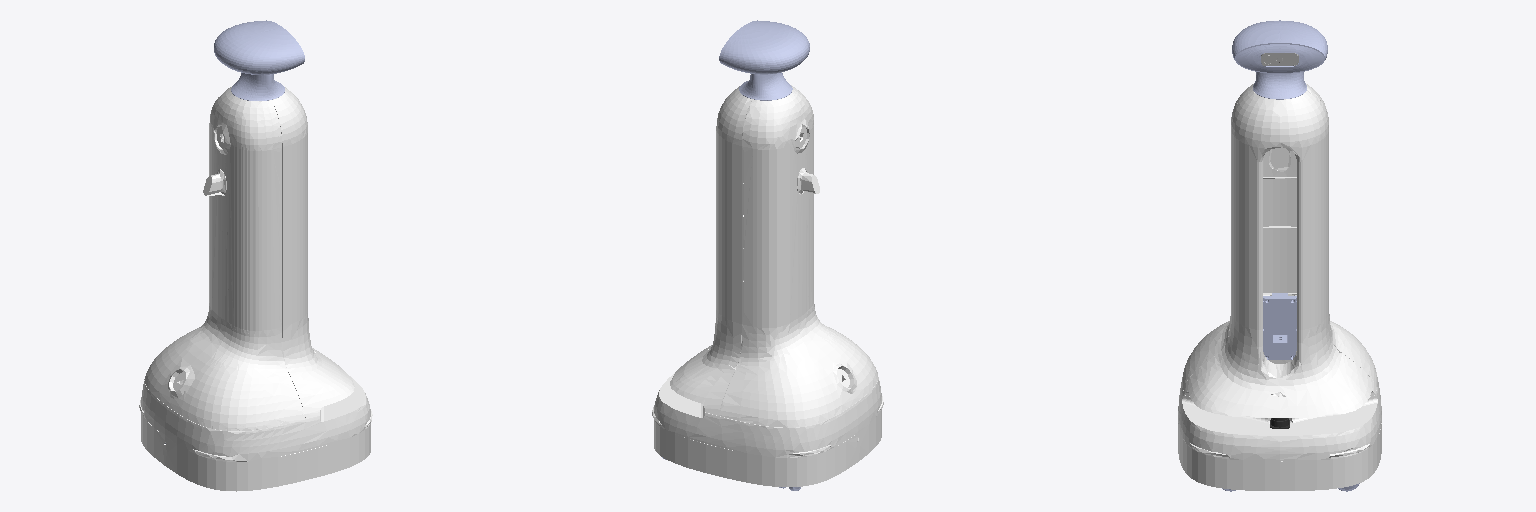
robot.urdf — MOMA_V4_URDF_V3:
<?xml version="1.0" encoding="utf-8"?>
<!-- This URDF was automatically created by SolidWorks to URDF Exporter! Originally created by [author] ([email redacted]) 
     Commit Version: 1.6.0-1-g15f4949  Build Version: 1.6.7594.29634
     For more information, please see http://wiki.ros.org/sw_urdf_exporter -->
<robot
  name="MOMA_V4_URDF_V3">
  <link
    name="base_link">
    <inertial>
      <origin
        xyz="-0.0311802154982621 1.17504338130459E-05 0.315211906825966"
        rpy="0 0 0" />
      <mass
        value="8.7968329124645" />
      <inertia
        ixx="0.186258716514256"
        ixy="-1.48518742834124E-05"
        ixz="-0.00154696059136798"
        iyy="0.203780508528874"
        iyz="1.05129920553985E-05"
        izz="0.079091000039605" />
    </inertial>
    <visual>
      <origin
        xyz="0 0 0"
        rpy="0 0 0" />
      <geometry>
        <mesh
          filename="package://MOMA_V4_URDF_V3/meshes/base_link.STL" />
      </geometry>
      <material
        name="">
        <color
          rgba="1 1 1 1" />
      </material>
    </visual>
    <collision>
      <origin
        xyz="0 0 0"
        rpy="0 0 0" />
      <geometry>
        <mesh
          filename="package://MOMA_V4_URDF_V3/meshes/base_link.STL" />
      </geometry>
    </collision>
  </link>
  <link
    name="Lidar">
    <inertial>
      <origin
        xyz="6.20383105998101E-10 0.0216642806157543 -9.5633137657869E-05"
        rpy="0 0 0" />
      <mass
        value="0.111414847916921" />
      <inertia
        ixx="4.42568757050089E-05"
        ixy="5.54707912683361E-13"
        ixz="-1.43915040446869E-12"
        iyy="4.24275016408878E-05"
        iyz="-1.99911186975257E-07"
        izz="4.38954994136943E-05" />
    </inertial>
    <visual>
      <origin
        xyz="0 0 0"
        rpy="0 0 0" />
      <geometry>
        <mesh
          filename="package://MOMA_V4_URDF_V3/meshes/Lidar.STL" />
      </geometry>
      <material
        name="">
        <color
          rgba="0.258823529411765 0.258823529411765 0.258823529411765 1" />
      </material>
    </visual>
    <collision>
      <origin
        xyz="0 0 0"
        rpy="0 0 0" />
      <geometry>
        <mesh
          filename="package://MOMA_V4_URDF_V3/meshes/Lidar.STL" />
      </geometry>
    </collision>
  </link>
  <joint
    name="JT_Lidar"
    type="fixed">
    <origin
      xyz="0.1985 0 0.095"
      rpy="1.5708 0 1.5708" />
    <parent
      link="base_link" />
    <child
      link="Lidar" />
    <axis
      xyz="0 0 0" />
  </joint>
  <link
    name="UniWheelPivot_RF">
    <inertial>
      <origin
        xyz="-0.0289122121608881 7.96029908656237E-14 -0.0182260960322876"
        rpy="0 0 0" />
      <mass
        value="0.0847351495375796" />
      <inertia
        ixx="3.34756139191196E-05"
        ixy="7.50114488966578E-17"
        ixz="-1.16340041790674E-05"
        iyy="6.07135705376021E-05"
        iyz="3.20838303655994E-17"
        izz="3.49474283390519E-05" />
    </inertial>
    <visual>
      <origin
        xyz="0 0 0"
        rpy="0 0 0" />
      <geometry>
        <mesh
          filename="package://MOMA_V4_URDF_V3/meshes/UniWheelPivot_RF.STL" />
      </geometry>
      <material
        name="">
        <color
          rgba="1 1 1 1" />
      </material>
    </visual>
    <collision>
      <origin
        xyz="0 0 0"
        rpy="0 0 0" />
      <geometry>
        <mesh
          filename="package://MOMA_V4_URDF_V3/meshes/UniWheelPivot_RF.STL" />
      </geometry>
    </collision>
  </link>
  <joint
    name="JT_UniWheelPivot_RF"
    type="continuous">
    <origin
      xyz="0.185 -0.1585 -0.0043169"
      rpy="1.5708 -1.5708 0" />
    <parent
      link="base_link" />
    <child
      link="UniWheelPivot_RF" />
    <axis
      xyz="1 0 0" />
  </joint>
  <link
    name="UniWheel_RF">
    <inertial>
      <origin
        xyz="2.82717186675385E-08 2.14311952628776E-08 3.03619636168873E-08"
        rpy="0 0 0" />
      <mass
        value="0.131455385692783" />
      <inertia
        ixx="4.67616618745289E-05"
        ixy="-2.20955469793984E-11"
        ixz="-5.77989335033432E-10"
        iyy="8.85134138944847E-05"
        iyz="-2.24056751711574E-11"
        izz="4.67628266240816E-05" />
    </inertial>
    <visual>
      <origin
        xyz="0 0 0"
        rpy="0 0 0" />
      <geometry>
        <mesh
          filename="package://MOMA_V4_URDF_V3/meshes/UniWheel_RF.STL" />
      </geometry>
      <material
        name="">
        <color
          rgba="0.792156862745098 0.819607843137255 0.933333333333333 1" />
      </material>
    </visual>
    <collision>
      <origin
        xyz="0 0 0"
        rpy="0 0 0" />
      <geometry>
        <mesh
          filename="package://MOMA_V4_URDF_V3/meshes/UniWheel_RF.STL" />
      </geometry>
    </collision>
  </link>
  <joint
    name="JT_UniWheel_RF"
    type="continuous">
    <origin
      xyz="-0.042183 0 -0.024"
      rpy="0 -1.5708 0" />
    <parent
      link="UniWheelPivot_RF" />
    <child
      link="UniWheel_RF" />
    <axis
      xyz="0 -1 0" />
  </joint>
  <link
    name="UniWheelPivot_LF">
    <inertial>
      <origin
        xyz="-0.028912212160888 7.96029908656237E-14 -0.0182260960322876"
        rpy="0 0 0" />
      <mass
        value="0.0847351495375796" />
      <inertia
        ixx="3.34756139191196E-05"
        ixy="7.50107342044398E-17"
        ixz="-1.16340041790674E-05"
        iyy="6.07135705376022E-05"
        iyz="3.20810669265241E-17"
        izz="3.49474283390519E-05" />
    </inertial>
    <visual>
      <origin
        xyz="0 0 0"
        rpy="0 0 0" />
      <geometry>
        <mesh
          filename="package://MOMA_V4_URDF_V3/meshes/UniWheelPivot_LF.STL" />
      </geometry>
      <material
        name="">
        <color
          rgba="1 1 1 1" />
      </material>
    </visual>
    <collision>
      <origin
        xyz="0 0 0"
        rpy="0 0 0" />
      <geometry>
        <mesh
          filename="package://MOMA_V4_URDF_V3/meshes/UniWheelPivot_LF.STL" />
      </geometry>
    </collision>
  </link>
  <joint
    name="JT_UniWheelPivot_LF"
    type="continuous">
    <origin
      xyz="0.185 0.1585 -0.00431688785512865"
      rpy="1.5707963267949 -1.5707963267949 0" />
    <parent
      link="base_link" />
    <child
      link="UniWheelPivot_LF" />
    <axis
      xyz="1 0 0" />
  </joint>
  <link
    name="UniWheel_LF">
    <inertial>
      <origin
        xyz="-1.63190614910214E-08 2.14311952073665E-08 3.81421963735473E-08"
        rpy="0 0 0" />
      <mass
        value="0.131455385692783" />
      <inertia
        ixx="4.67630636523249E-05"
        ixy="1.15437256666207E-11"
        ixz="-4.25528389794276E-11"
        iyy="8.85134138944848E-05"
        iyz="-2.92740747055511E-11"
        izz="4.67614248462869E-05" />
    </inertial>
    <visual>
      <origin
        xyz="0 0 0"
        rpy="0 0 0" />
      <geometry>
        <mesh
          filename="package://MOMA_V4_URDF_V3/meshes/UniWheel_LF.STL" />
      </geometry>
      <material
        name="">
        <color
          rgba="0.792156862745098 0.819607843137255 0.933333333333333 1" />
      </material>
    </visual>
    <collision>
      <origin
        xyz="0 0 0"
        rpy="0 0 0" />
      <geometry>
        <mesh
          filename="package://MOMA_V4_URDF_V3/meshes/UniWheel_LF.STL" />
      </geometry>
    </collision>
  </link>
  <joint
    name="JT_UniWheel_LF"
    type="continuous">
    <origin
      xyz="-0.042183 0 -0.024"
      rpy="0 -1.5708 0" />
    <parent
      link="UniWheelPivot_LF" />
    <child
      link="UniWheel_LF" />
    <axis
      xyz="0 -1 0" />
  </joint>
  <link
    name="UniWheelPivot_RB">
    <inertial>
      <origin
        xyz="-0.0289122121598695 7.96029908656237E-14 -0.0182260960322876"
        rpy="0 0 0" />
      <mass
        value="0.0847351495375796" />
      <inertia
        ixx="3.34756139191196E-05"
        ixy="7.50002400117997E-17"
        ixz="-1.16340041790674E-05"
        iyy="6.07135705376021E-05"
        iyz="3.2068961265564E-17"
        izz="3.49474283390519E-05" />
    </inertial>
    <visual>
      <origin
        xyz="0 0 0"
        rpy="0 0 0" />
      <geometry>
        <mesh
          filename="package://MOMA_V4_URDF_V3/meshes/UniWheelPivot_RB.STL" />
      </geometry>
      <material
        name="">
        <color
          rgba="1 1 1 1" />
      </material>
    </visual>
    <collision>
      <origin
        xyz="0 0 0"
        rpy="0 0 0" />
      <geometry>
        <mesh
          filename="package://MOMA_V4_URDF_V3/meshes/UniWheelPivot_RB.STL" />
      </geometry>
    </collision>
  </link>
  <joint
    name="JT_UniWheelPivot_RB"
    type="continuous">
    <origin
      xyz="-0.185 -0.1585 -0.00431688785512863"
      rpy="1.5707963267949 -1.5707963267949 0" />
    <parent
      link="base_link" />
    <child
      link="UniWheelPivot_RB" />
    <axis
      xyz="1 0 0" />
  </joint>
  <link
    name="UniWheel_RB">
    <inertial>
      <origin
        xyz="-1.63190614563269E-08 2.14311951796109E-08 3.81421963388529E-08"
        rpy="0 0 0" />
      <mass
        value="0.131455385692783" />
      <inertia
        ixx="4.67630636523245E-05"
        ixy="1.15437256434612E-11"
        ixz="-4.25528389606465E-11"
        iyy="8.85134138944848E-05"
        iyz="-2.92740747818311E-11"
        izz="4.67614248462865E-05" />
    </inertial>
    <visual>
      <origin
        xyz="0 0 0"
        rpy="0 0 0" />
      <geometry>
        <mesh
          filename="package://MOMA_V4_URDF_V3/meshes/UniWheel_RB.STL" />
      </geometry>
      <material
        name="">
        <color
          rgba="0.792156862745098 0.819607843137255 0.933333333333333 1" />
      </material>
    </visual>
    <collision>
      <origin
        xyz="0 0 0"
        rpy="0 0 0" />
      <geometry>
        <mesh
          filename="package://MOMA_V4_URDF_V3/meshes/UniWheel_RB.STL" />
      </geometry>
    </collision>
  </link>
  <joint
    name="JT_UniWheel_RB"
    type="continuous">
    <origin
      xyz="-0.042183 0 -0.024"
      rpy="0 -1.5708 0" />
    <parent
      link="UniWheelPivot_RB" />
    <child
      link="UniWheel_RB" />
    <axis
      xyz="0 -1 0" />
  </joint>
  <link
    name="UniWheelPivot_LB">
    <inertial>
      <origin
        xyz="-0.0289122121598694 7.95752352900081E-14 -0.0182260960322876"
        rpy="0 0 0" />
      <mass
        value="0.0847351495375797" />
      <inertia
        ixx="3.34756139191196E-05"
        ixy="7.50052988252789E-17"
        ixz="-1.16340041790674E-05"
        iyy="6.07135705376022E-05"
        iyz="3.20738964835275E-17"
        izz="3.49474283390519E-05" />
    </inertial>
    <visual>
      <origin
        xyz="0 0 0"
        rpy="0 0 0" />
      <geometry>
        <mesh
          filename="package://MOMA_V4_URDF_V3/meshes/UniWheelPivot_LB.STL" />
      </geometry>
      <material
        name="">
        <color
          rgba="1 1 1 1" />
      </material>
    </visual>
    <collision>
      <origin
        xyz="0 0 0"
        rpy="0 0 0" />
      <geometry>
        <mesh
          filename="package://MOMA_V4_URDF_V3/meshes/UniWheelPivot_LB.STL" />
      </geometry>
    </collision>
  </link>
  <joint
    name="JT_UniWheelPivot_LB"
    type="continuous">
    <origin
      xyz="-0.185 0.1585 -0.0043169"
      rpy="1.5708 -1.5708 0" />
    <parent
      link="base_link" />
    <child
      link="UniWheelPivot_LB" />
    <axis
      xyz="1 0 0" />
  </joint>
  <link
    name="UniWheel_LB">
    <inertial>
      <origin
        xyz="-1.63190614910214E-08 2.14311952073665E-08 3.81421963596695E-08"
        rpy="0 0 0" />
      <mass
        value="0.131455385692783" />
      <inertia
        ixx="4.67630636523245E-05"
        ixy="1.15437256326157E-11"
        ixz="-4.25528389682312E-11"
        iyy="8.85134138944848E-05"
        iyz="-2.92740746535266E-11"
        izz="4.67614248462866E-05" />
    </inertial>
    <visual>
      <origin
        xyz="0 0 0"
        rpy="0 0 0" />
      <geometry>
        <mesh
          filename="package://MOMA_V4_URDF_V3/meshes/UniWheel_LB.STL" />
      </geometry>
      <material
        name="">
        <color
          rgba="0.792156862745098 0.819607843137255 0.933333333333333 1" />
      </material>
    </visual>
    <collision>
      <origin
        xyz="0 0 0"
        rpy="0 0 0" />
      <geometry>
        <mesh
          filename="package://MOMA_V4_URDF_V3/meshes/UniWheel_LB.STL" />
      </geometry>
    </collision>
  </link>
  <joint
    name="JT_UniWheel_LB"
    type="continuous">
    <origin
      xyz="-0.0421831121443616 0 -0.024"
      rpy="0 -1.5707963267949 0" />
    <parent
      link="UniWheelPivot_LB" />
    <child
      link="UniWheel_LB" />
    <axis
      xyz="0 -1 0" />
  </joint>
  <link
    name="DriWheel_L">
    <inertial>
      <origin
        xyz="7.00910488723022E-19 2.29657315570231E-06 8.67361737988404E-19"
        rpy="0 0 0" />
      <mass
        value="0.991630823915776" />
      <inertia
        ixx="0.00184507083744811"
        ixy="-3.379158989595E-21"
        ixz="3.3889717648391E-36"
        iyy="0.00334198159600445"
        iyz="5.46421202140047E-36"
        izz="0.00184507083744811" />
    </inertial>
    <visual>
      <origin
        xyz="0 0 0"
        rpy="0 0 0" />
      <geometry>
        <mesh
          filename="package://MOMA_V4_URDF_V3/meshes/DriWheel_L.STL" />
      </geometry>
      <material
        name="">
        <color
          rgba="1 1 1 1" />
      </material>
    </visual>
    <collision>
      <origin
        xyz="0 0 0"
        rpy="0 0 0" />
      <geometry>
        <mesh
          filename="package://MOMA_V4_URDF_V3/meshes/DriWheel_L.STL" />
      </geometry>
    </collision>
  </link>
  <joint
    name="JT_DriWheel_L"
    type="continuous">
    <origin
      xyz="0 0.19697 0"
      rpy="0 0 0" />
    <parent
      link="base_link" />
    <child
      link="DriWheel_L" />
    <axis
      xyz="0 -1 0" />
  </joint>
  <link
    name="DriWheel_R">
    <inertial>
      <origin
        xyz="3.80487199906632E-18 -2.29657315570231E-06 0"
        rpy="0 0 0" />
      <mass
        value="0.991630823915776" />
      <inertia
        ixx="0.00184507083744811"
        ixy="4.54703773356873E-19"
        ixz="1.69406589450849E-21"
        iyy="0.00334198159600445"
        iyz="-8.74951063712164E-22"
        izz="0.00184507083744811" />
    </inertial>
    <visual>
      <origin
        xyz="0 0 0"
        rpy="0 0 0" />
      <geometry>
        <mesh
          filename="package://MOMA_V4_URDF_V3/meshes/DriWheel_R.STL" />
      </geometry>
      <material
        name="">
        <color
          rgba="1 1 1 1" />
      </material>
    </visual>
    <collision>
      <origin
        xyz="0 0 0"
        rpy="0 0 0" />
      <geometry>
        <mesh
          filename="package://MOMA_V4_URDF_V3/meshes/DriWheel_R.STL" />
      </geometry>
    </collision>
  </link>
  <joint
    name="JT_DriWheel_R"
    type="continuous">
    <origin
      xyz="0 -0.19697 0"
      rpy="0 0.004633 0" />
    <parent
      link="base_link" />
    <child
      link="DriWheel_R" />
    <axis
      xyz="0 -1 0" />
  </joint>
  <link
    name="ArmBase">
    <inertial>
      <origin
        xyz="-0.0306974842711243 -0.000955398394232504 0.0354516942274083"
        rpy="0 0 0" />
      <mass
        value="0.833236204792763" />
      <inertia
        ixx="0.00262276376774655"
        ixy="-6.9599475549375E-07"
        ixz="5.15168201230645E-05"
        iyy="0.00186363387009509"
        iyz="8.78496595339785E-07"
        izz="0.00105932573712803" />
    </inertial>
    <visual>
      <origin
        xyz="0 0 0"
        rpy="0 0 0" />
      <geometry>
        <mesh
          filename="package://MOMA_V4_URDF_V3/meshes/ArmBase.STL" />
      </geometry>
      <material
        name="">
        <color
          rgba="0.796078431372549 0.823529411764706 0.937254901960784 1" />
      </material>
    </visual>
    <collision>
      <origin
        xyz="0 0 0"
        rpy="0 0 0" />
      <geometry>
        <mesh
          filename="package://MOMA_V4_URDF_V3/meshes/ArmBase.STL" />
      </geometry>
    </collision>
  </link>
  <joint
    name="JT_ArmBase"
    type="prismatic">
    <origin
      xyz="0.063 0.001 0.2955"
      rpy="0 0 0" />
    <parent
      link="base_link" />
    <child
      link="ArmBase" />
    <axis
      xyz="0 0 1" />
    <limit
      lower="0"
      upper="0.585"
      effort="0"
      velocity="0" />
  </joint>
  <link
    name="BodyShell">
    <inertial>
      <origin
        xyz="-0.00438421880768753 8.31574203594421E-05 0.375180994226469"
        rpy="0 0 0" />
      <mass
        value="6.96027412074526" />
      <inertia
        ixx="0.54240738104732"
        ixy="-3.13858711109322E-05"
        ixz="-0.0126584262855019"
        iyy="0.492210055619746"
        iyz="4.12720577585476E-05"
        izz="0.251787815510178" />
    </inertial>
    <visual>
      <origin
        xyz="0 0 0"
        rpy="0 0 0" />
      <geometry>
        <mesh
          filename="package://MOMA_V4_URDF_V3/meshes/BodyShell.STL" />
      </geometry>
      <material
        name="">
        <color
          rgba="1 1 1 1" />
      </material>
    </visual>
    <collision>
      <origin
        xyz="0 0 0"
        rpy="0 0 0" />
      <geometry>
        <mesh
          filename="package://MOMA_V4_URDF_V3/meshes/BodyShell.STL" />
      </geometry>
    </collision>
  </link>
  <joint
    name="JT_BodyShell"
    type="fixed">
    <origin
      xyz="0 0 0"
      rpy="0 0 0" />
    <parent
      link="base_link" />
    <child
      link="BodyShell" />
    <axis
      xyz="0 0 0" />
  </joint>
  <link
    name="PanSet">
    <inertial>
      <origin
        xyz="0.000554299127061951 -3.49485223612167E-06 0.0547778067465923"
        rpy="0 0 0" />
      <mass
        value="0.226677336025464" />
      <inertia
        ixx="0.000142637008072705"
        ixy="2.77462848098286E-10"
        ixz="4.76129503110727E-17"
        iyy="7.22794203939845E-05"
        iyz="-2.37581213250001E-16"
        izz="0.000154987832286111" />
    </inertial>
    <visual>
      <origin
        xyz="0 0 0"
        rpy="0 0 0" />
      <geometry>
        <mesh
          filename="package://MOMA_V4_URDF_V3/meshes/PanSet.STL" />
      </geometry>
      <material
        name="">
        <color
          rgba="0.752941176470588 0.752941176470588 0.752941176470588 1" />
      </material>
    </visual>
    <collision>
      <origin
        xyz="0 0 0"
        rpy="0 0 0" />
      <geometry>
        <mesh
          filename="package://MOMA_V4_URDF_V3/meshes/PanSet.STL" />
      </geometry>
    </collision>
  </link>
  <joint
    name="JT_PanSet"
    type="continuous">
    <origin
      xyz="0 0 1.0091"
      rpy="0 0 0" />
    <parent
      link="base_link" />
    <child
      link="PanSet" />
    <axis
      xyz="0 0 -1" />
  </joint>
  <link
    name="TiltSet">
    <inertial>
      <origin
        xyz="0.00627852264147075 -1.3351967463604E-05 0.0451641775455638"
        rpy="0 0 0" />
      <mass
        value="0.337334688556195" />
      <inertia
        ixx="0.00094709872727437"
        ixy="2.97365722461131E-07"
        ixz="-4.12017268066108E-06"
        iyy="0.000509489116148601"
        iyz="-2.57100827181398E-08"
        izz="0.00142454025924575" />
    </inertial>
    <visual>
      <origin
        xyz="0 0 0"
        rpy="0 0 0" />
      <geometry>
        <mesh
          filename="package://MOMA_V4_URDF_V3/meshes/TiltSet.STL" />
      </geometry>
      <material
        name="">
        <color
          rgba="0.752941176470588 0.752941176470588 0.752941176470588 1" />
      </material>
    </visual>
    <collision>
      <origin
        xyz="0 0 0"
        rpy="0 0 0" />
      <geometry>
        <mesh
          filename="package://MOMA_V4_URDF_V3/meshes/TiltSet.STL" />
      </geometry>
    </collision>
  </link>
  <joint
    name="JT_TiltSet"
    type="continuous">
    <origin
      xyz="0 0 0.10056"
      rpy="0 0.019568 0" />
    <parent
      link="PanSet" />
    <child
      link="TiltSet" />
    <axis
      xyz="0 1 0" />
  </joint>
  <link
    name="HeadShell">
    <inertial>
      <origin
        xyz="-0.00389933532083145 0.0427764441730733 0.87165278052167"
        rpy="0 0 0" />
      <mass
        value="0.354445891112852" />
      <inertia
        ixx="0.00118414996131452"
        ixy="-0.000144474967856168"
        ixz="-1.2439502307308E-06"
        iyy="0.00211641739988207"
        iyz="8.93972375142148E-06"
        izz="0.00314939565459275" />
    </inertial>
    <visual>
      <origin
        xyz="0 0 0"
        rpy="0 0 0" />
      <geometry>
        <mesh
          filename="package://MOMA_V4_URDF_V3/meshes/HeadShell.STL" />
      </geometry>
      <material
        name="">
        <color
          rgba="0.792156862745098 0.819607843137255 0.933333333333333 1" />
      </material>
    </visual>
    <collision>
      <origin
        xyz="0 0 0"
        rpy="0 0 0" />
      <geometry>
        <mesh
          filename="package://MOMA_V4_URDF_V3/meshes/HeadShell.STL" />
      </geometry>
    </collision>
  </link>
  <joint
    name="JT_HeadShell"
    type="fixed">
    <origin
      xyz="0.049958 -0.0025918 -0.81864"
      rpy="-0.019346 -0.0029375 1.4201" />
    <parent
      link="TiltSet" />
    <child
      link="HeadShell" />
    <axis
      xyz="0 0 0" />
  </joint>
  <link
    name="NeckShell">
    <inertial>
      <origin
        xyz="-0.00241306537212758 0.033137204350725 0.788402712710511"
        rpy="0 0 0" />
      <mass
        value="0.137012264555895" />
      <inertia
        ixx="0.000183280169998726"
        ixy="-2.80282933564336E-05"
        ixz="-3.68462241307317E-07"
        iyy="0.000363621283724574"
        iyz="2.46058968589238E-06"
        izz="0.000261586764660329" />
    </inertial>
    <visual>
      <origin
        xyz="0 0 0"
        rpy="0 0 0" />
      <geometry>
        <mesh
          filename="package://MOMA_V4_URDF_V3/meshes/NeckShell.STL" />
      </geometry>
      <material
        name="">
        <color
          rgba="0.792156862745098 0.819607843137255 0.933333333333333 1" />
      </material>
    </visual>
    <collision>
      <origin
        xyz="0 0 0"
        rpy="0 0 0" />
      <geometry>
        <mesh
          filename="package://MOMA_V4_URDF_V3/meshes/NeckShell.STL" />
      </geometry>
    </collision>
  </link>
  <joint
    name="JT_NeckShell"
    type="fixed">
    <origin
      xyz="-0.033931 0.0025889 -0.72354"
      rpy="0 0 -1.7215" />
    <parent
      link="PanSet" />
    <child
      link="NeckShell" />
    <axis
      xyz="0 0 0" />
  </joint>
</robot>

--- Render facts (derived) ---
Views: 3 orthographic renders of the robot side by side, from view 1: azimuth 30°, elevation 25°; view 2: azimuth 150°, elevation 25°; view 3: azimuth 270°, elevation 25°.
Robot: MOMA_V4_URDF_V3 — 18 links, 17 joints (12 continuous, 1 prismatic, 4 fixed); root link base_link; default pose: every joint at zero.
Links seen in each view (by area): view 1: BodyShell, HeadShell, NeckShell; view 2: BodyShell, HeadShell, NeckShell; view 3: BodyShell, HeadShell, ArmBase, NeckShell.
Link boxes in pixels (left/top/right/bottom): BodyShell: left=139, top=87, right=372, bottom=491; HeadShell: left=214, top=20, right=304, bottom=74; NeckShell: left=231, top=73, right=284, bottom=100; BodyShell: left=652, top=85, right=883, bottom=486; HeadShell: left=719, top=20, right=809, bottom=74; NeckShell: left=739, top=72, right=792, bottom=100; BodyShell: left=1178, top=84, right=1381, bottom=490; HeadShell: left=1232, top=20, right=1327, bottom=73; ArmBase: left=1263, top=293, right=1296, bottom=359; NeckShell: left=1253, top=72, right=1306, bottom=99.
Size in the robot's own frame: 0.5844 by 0.5562 by 1.29 metres.
Meshes: 18 distinct files referenced, 15 mesh visuals loaded (15 binary STL); not drawn: 3 (reference not matched to a file when rendering).